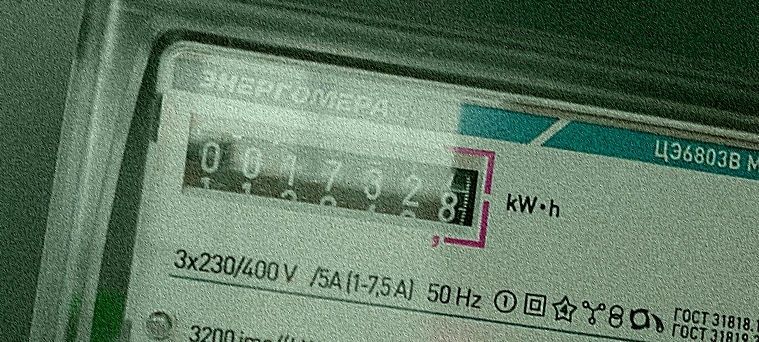0: (199, 135, 226, 174), (240, 142, 265, 178)
1: (283, 148, 302, 185)
2: (399, 169, 425, 208)
3: (360, 163, 388, 201)
7: (319, 153, 347, 193)
8: (436, 186, 460, 223)
screen: (170, 107, 502, 250)
